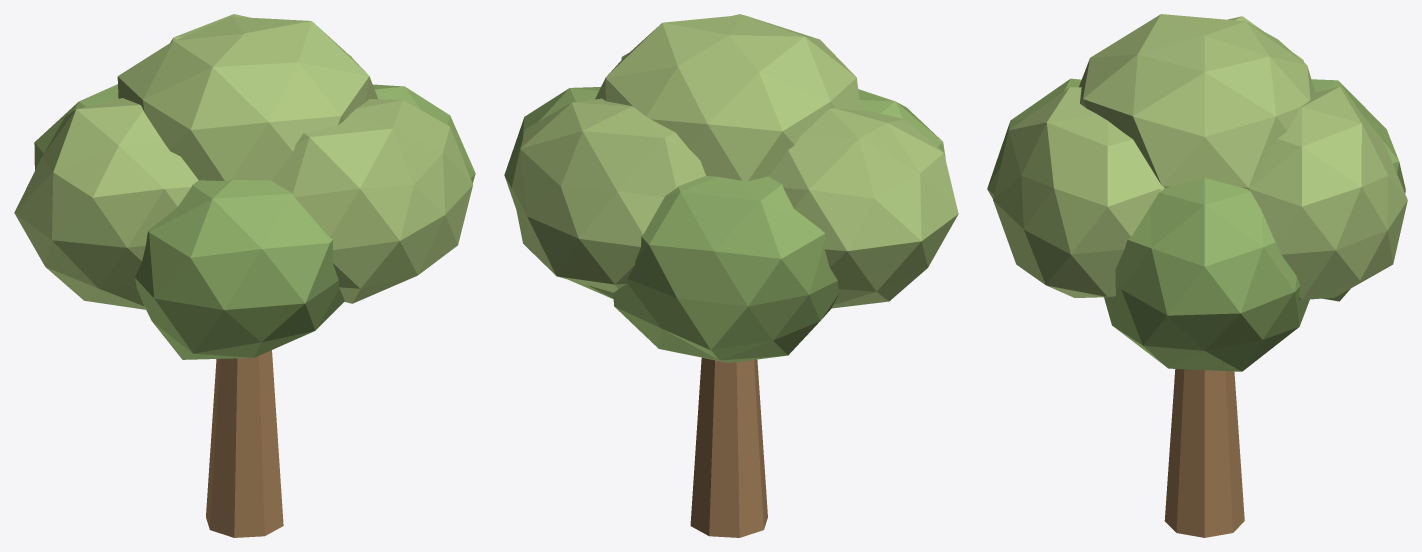
The model's file is BroadleafTree.glb.
3 renders of one model, left to right at view 1: azimuth 30°, elevation 25°; view 2: azimuth 150°, elevation 25°; view 3: azimuth 270°, elevation 25°, orthographic.
Parts seen in each view (by area): view 1: LeafCrown.004, TopCrown, LeafCrown.005, LeafCrown.003, Trunk, LeafCrown, LeafCrown.002; view 2: LeafCrown.002, TopCrown, LeafCrown.001, LeafCrown.003, Trunk, LeafCrown, LeafCrown.004; view 3: TopCrown, LeafCrown, LeafCrown.005, LeafCrown.001, Trunk, LeafCrown.002, LeafCrown.004.
Part boxes in pixels (x1,y1,x2,y2): LeafCrown.004: (135, 180, 344, 359); TopCrown: (117, 16, 377, 180); LeafCrown.005: (271, 99, 472, 303); LeafCrown.003: (14, 98, 198, 309); Trunk: (206, 350, 283, 537); LeafCrown: (373, 84, 475, 183); LeafCrown.002: (34, 84, 118, 170); LeafCrown.002: (613, 175, 840, 362); TopCrown: (595, 15, 860, 181); LeafCrown.001: (512, 98, 705, 292); LeafCrown.003: (768, 108, 958, 308); Trunk: (690, 357, 767, 537); LeafCrown: (504, 87, 613, 299); LeafCrown.004: (858, 89, 945, 158); TopCrown: (1079, 14, 1315, 188); LeafCrown: (1104, 178, 1309, 371); LeafCrown.005: (993, 87, 1164, 297); LeafCrown.001: (1248, 86, 1407, 299); Trunk: (1164, 369, 1244, 537); LeafCrown.002: (1311, 79, 1405, 301); LeafCrown.004: (987, 78, 1081, 198).
Size of the model in its own units: 12.16 by 13.38 by 10.51.
